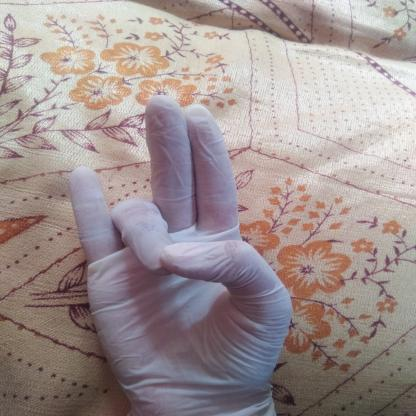gloved_hand: (65, 93, 293, 413)
